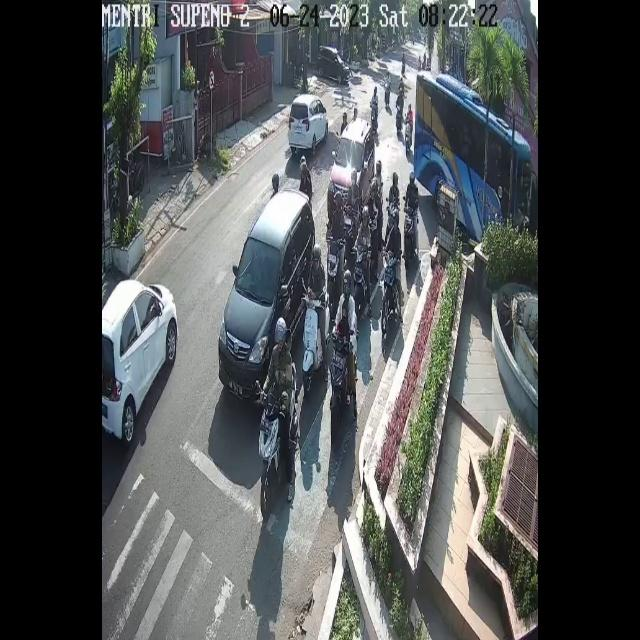bus: (258, 378, 297, 514), (300, 287, 332, 391), (329, 334, 354, 410), (382, 251, 398, 346), (326, 236, 344, 294), (402, 205, 418, 268), (352, 244, 368, 307), (342, 202, 358, 234), (386, 203, 399, 230), (405, 117, 412, 153), (368, 187, 380, 204), (397, 104, 402, 136), (369, 102, 377, 122)
car: (414, 70, 532, 246)
motorcycle: (219, 188, 316, 398), (102, 280, 178, 444), (328, 118, 375, 219), (288, 94, 329, 155), (316, 45, 353, 88)
